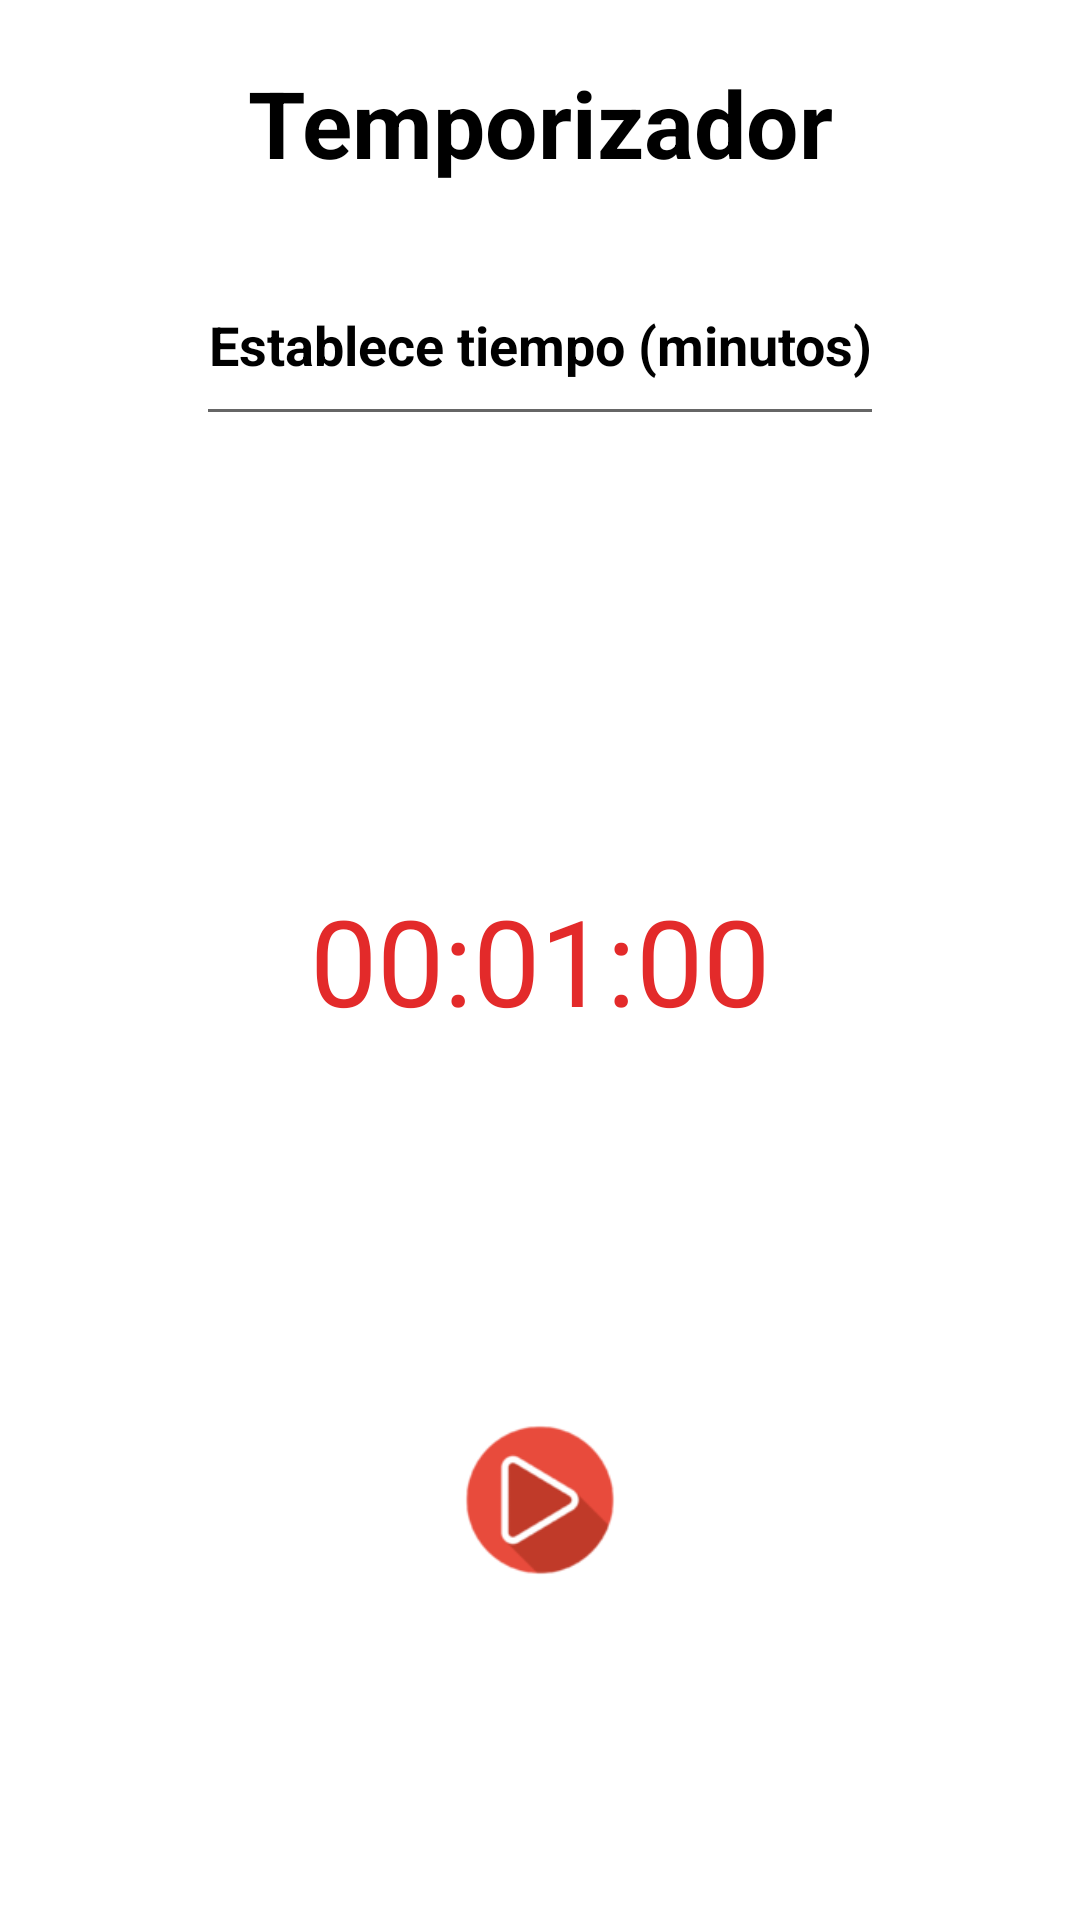

Icon click points for this 1080px x 1920px phone screenshot, format (x,y):
start: (540,1500)
